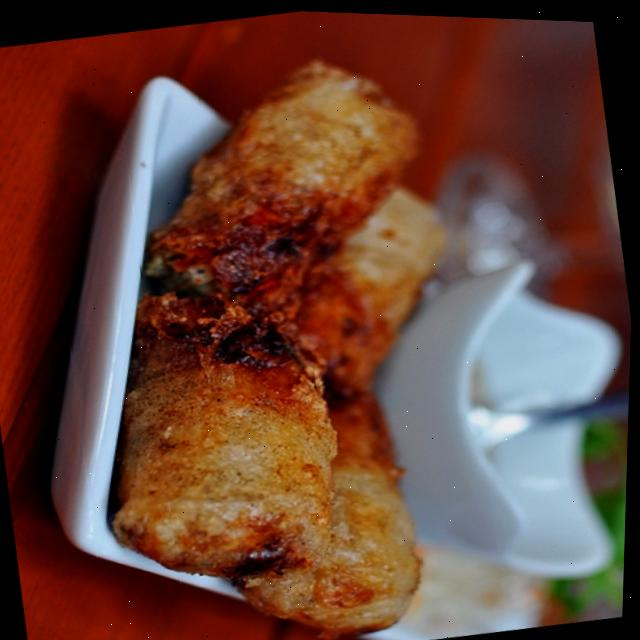炸货点心: (25, 14, 509, 640)
